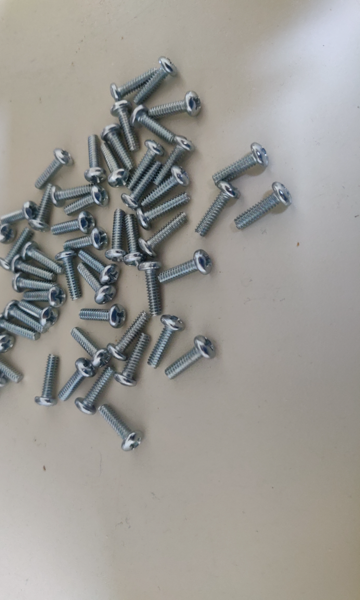shortscrew: (234, 182, 293, 230), (195, 181, 240, 238), (212, 142, 269, 184), (165, 336, 217, 380), (139, 212, 188, 258), (134, 56, 179, 105), (108, 311, 151, 362), (136, 192, 192, 231), (153, 136, 195, 188), (99, 404, 144, 452), (147, 315, 186, 370), (142, 165, 191, 208), (122, 160, 162, 211), (114, 332, 150, 388), (75, 366, 116, 415), (127, 141, 166, 192), (131, 105, 177, 146), (158, 250, 213, 284), (58, 358, 98, 403), (110, 67, 159, 103), (77, 263, 118, 305), (101, 123, 135, 173), (34, 149, 74, 191), (70, 328, 111, 367), (110, 100, 140, 153), (0, 227, 33, 274), (4, 301, 49, 334), (149, 92, 202, 120), (64, 185, 110, 217), (28, 183, 58, 232), (21, 242, 65, 275), (56, 250, 83, 302), (79, 250, 120, 284), (100, 142, 130, 188), (138, 261, 162, 317), (34, 354, 59, 406), (123, 214, 147, 266), (105, 209, 128, 263), (50, 184, 100, 208), (51, 211, 97, 237), (19, 299, 60, 328), (80, 304, 127, 329), (63, 227, 109, 252), (0, 313, 41, 341), (1, 201, 40, 228), (85, 135, 106, 185), (24, 286, 67, 308), (0, 346, 23, 384), (12, 274, 58, 290), (0, 321, 16, 354), (0, 218, 17, 245), (0, 371, 8, 415)
